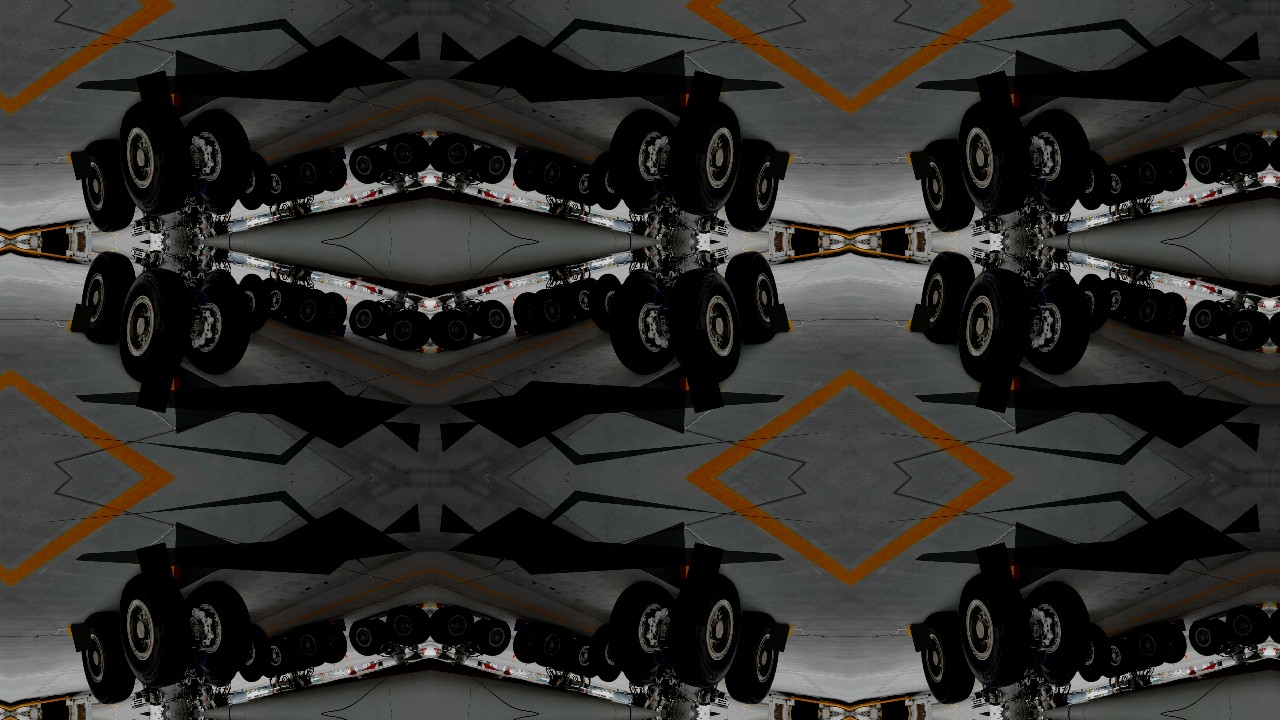chock: (136, 79, 184, 117), (676, 79, 724, 117), (976, 79, 1024, 117), (136, 367, 184, 405), (676, 367, 724, 405), (976, 367, 1024, 405), (136, 551, 184, 589), (676, 551, 724, 589), (976, 551, 1024, 589), (65, 315, 102, 339), (758, 315, 795, 339), (905, 315, 942, 339), (65, 617, 102, 641), (758, 617, 795, 641), (905, 617, 942, 641), (65, 145, 102, 168), (758, 145, 795, 168), (905, 145, 942, 168), (331, 145, 345, 156), (515, 145, 529, 156), (1171, 145, 1185, 156), (331, 328, 345, 338), (515, 328, 529, 338), (1171, 328, 1185, 338), (331, 618, 345, 628), (515, 618, 529, 628), (1171, 618, 1185, 628), (416, 345, 428, 355), (432, 345, 444, 355), (1256, 345, 1268, 355), (416, 601, 428, 611), (432, 601, 444, 611), (1256, 601, 1268, 611), (416, 129, 428, 138), (432, 129, 444, 138), (1256, 129, 1268, 138), (1272, 345, 1280, 355), (1272, 601, 1280, 611), (1272, 129, 1280, 138)
wheel: (107, 259, 206, 388), (654, 259, 753, 388), (947, 259, 1046, 388), (107, 568, 206, 697), (654, 568, 753, 697), (947, 568, 1046, 697), (107, 96, 206, 224), (654, 96, 753, 224), (947, 96, 1046, 224), (178, 103, 262, 214), (598, 103, 682, 214), (1018, 103, 1102, 214), (178, 270, 262, 381), (598, 270, 682, 381), (1018, 270, 1102, 381), (178, 575, 262, 686), (598, 575, 682, 686), (1018, 575, 1102, 686), (71, 246, 143, 348), (717, 246, 789, 348), (911, 246, 983, 348), (71, 608, 143, 710), (717, 608, 789, 710), (911, 608, 983, 710), (71, 136, 143, 237), (717, 136, 789, 237), (911, 136, 983, 237), (228, 150, 278, 213), (582, 150, 632, 213), (1068, 150, 1118, 213), (228, 271, 278, 333), (582, 271, 632, 333), (1068, 271, 1118, 333), (228, 623, 278, 685), (582, 623, 632, 685), (1068, 623, 1118, 685), (381, 130, 429, 179), (431, 130, 479, 179), (1221, 130, 1269, 179), (381, 305, 429, 354), (431, 305, 479, 354), (1221, 305, 1269, 354), (381, 602, 429, 651), (431, 602, 479, 651), (1221, 602, 1269, 651), (290, 148, 333, 199), (527, 148, 570, 199), (1130, 148, 1173, 199), (290, 285, 333, 335), (527, 285, 570, 335), (1130, 285, 1173, 335), (290, 621, 333, 671), (527, 621, 570, 671), (1130, 621, 1173, 671), (345, 143, 388, 188), (472, 143, 515, 188), (1185, 143, 1228, 188), (345, 295, 388, 340), (472, 295, 515, 340), (1185, 295, 1228, 340), (345, 616, 388, 661), (472, 616, 515, 661), (1185, 616, 1228, 661), (316, 289, 352, 336), (508, 289, 544, 336), (1156, 289, 1192, 336), (316, 620, 352, 667), (508, 620, 544, 667), (1156, 620, 1192, 667), (316, 148, 352, 194), (508, 148, 544, 194), (1156, 148, 1192, 194), (261, 161, 297, 206), (563, 161, 599, 206), (1101, 161, 1137, 206), (261, 277, 297, 322), (563, 277, 599, 322), (1101, 277, 1137, 322), (261, 634, 297, 679), (563, 634, 599, 679), (1101, 634, 1137, 679), (282, 162, 307, 202), (553, 162, 578, 202), (1122, 162, 1147, 202), (406, 133, 430, 174), (430, 133, 454, 174), (1246, 133, 1270, 174), (406, 310, 430, 351), (430, 310, 454, 351), (1246, 310, 1270, 351), (406, 605, 430, 646), (430, 605, 454, 646), (1246, 605, 1270, 646), (282, 282, 307, 321), (553, 282, 578, 321), (1122, 282, 1147, 321), (282, 635, 307, 674), (553, 635, 578, 674), (1122, 635, 1147, 674), (204, 192, 238, 217), (622, 192, 656, 217), (1044, 192, 1078, 217), (204, 267, 238, 292), (622, 267, 656, 292), (1044, 267, 1078, 292), (204, 664, 238, 689), (622, 664, 656, 689), (1044, 664, 1078, 689), (42, 221, 66, 242), (794, 221, 818, 242), (882, 221, 906, 242), (42, 242, 66, 263), (794, 242, 818, 263), (882, 242, 906, 263), (42, 693, 66, 714), (794, 693, 818, 714), (882, 693, 906, 714), (239, 194, 264, 213), (596, 194, 621, 213), (1079, 194, 1104, 213), (239, 271, 264, 289), (596, 271, 621, 289), (1079, 271, 1104, 289), (239, 667, 264, 685), (596, 667, 621, 685), (1079, 667, 1104, 685), (1271, 130, 1280, 179), (1271, 305, 1280, 354), (1271, 602, 1280, 651), (1270, 133, 1280, 174), (1270, 310, 1280, 351), (1270, 605, 1280, 646), (42, 714, 66, 720), (794, 714, 818, 720), (882, 714, 906, 720)
